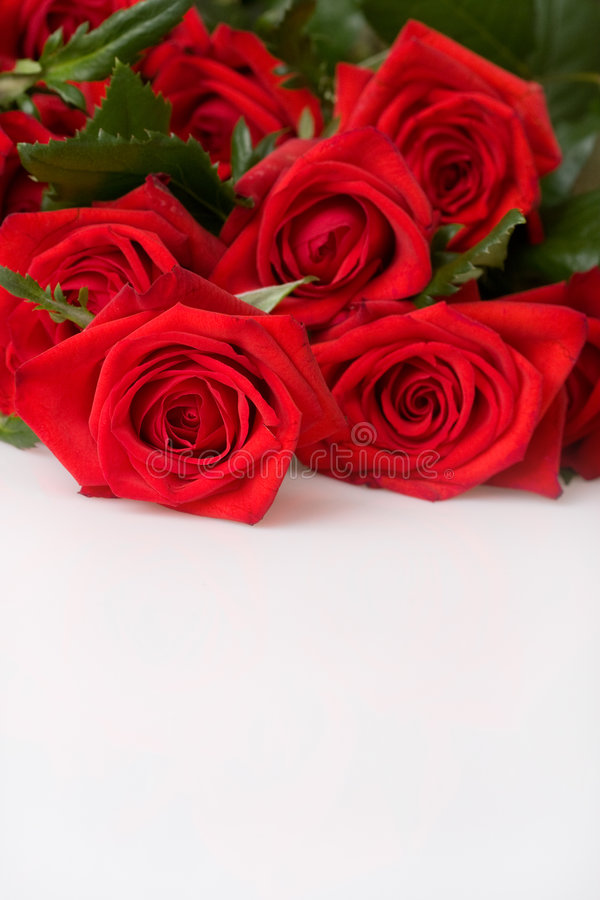RedRose: (12, 308, 324, 526), (307, 291, 588, 505), (339, 26, 553, 264), (1, 205, 239, 354), (245, 138, 464, 291)
